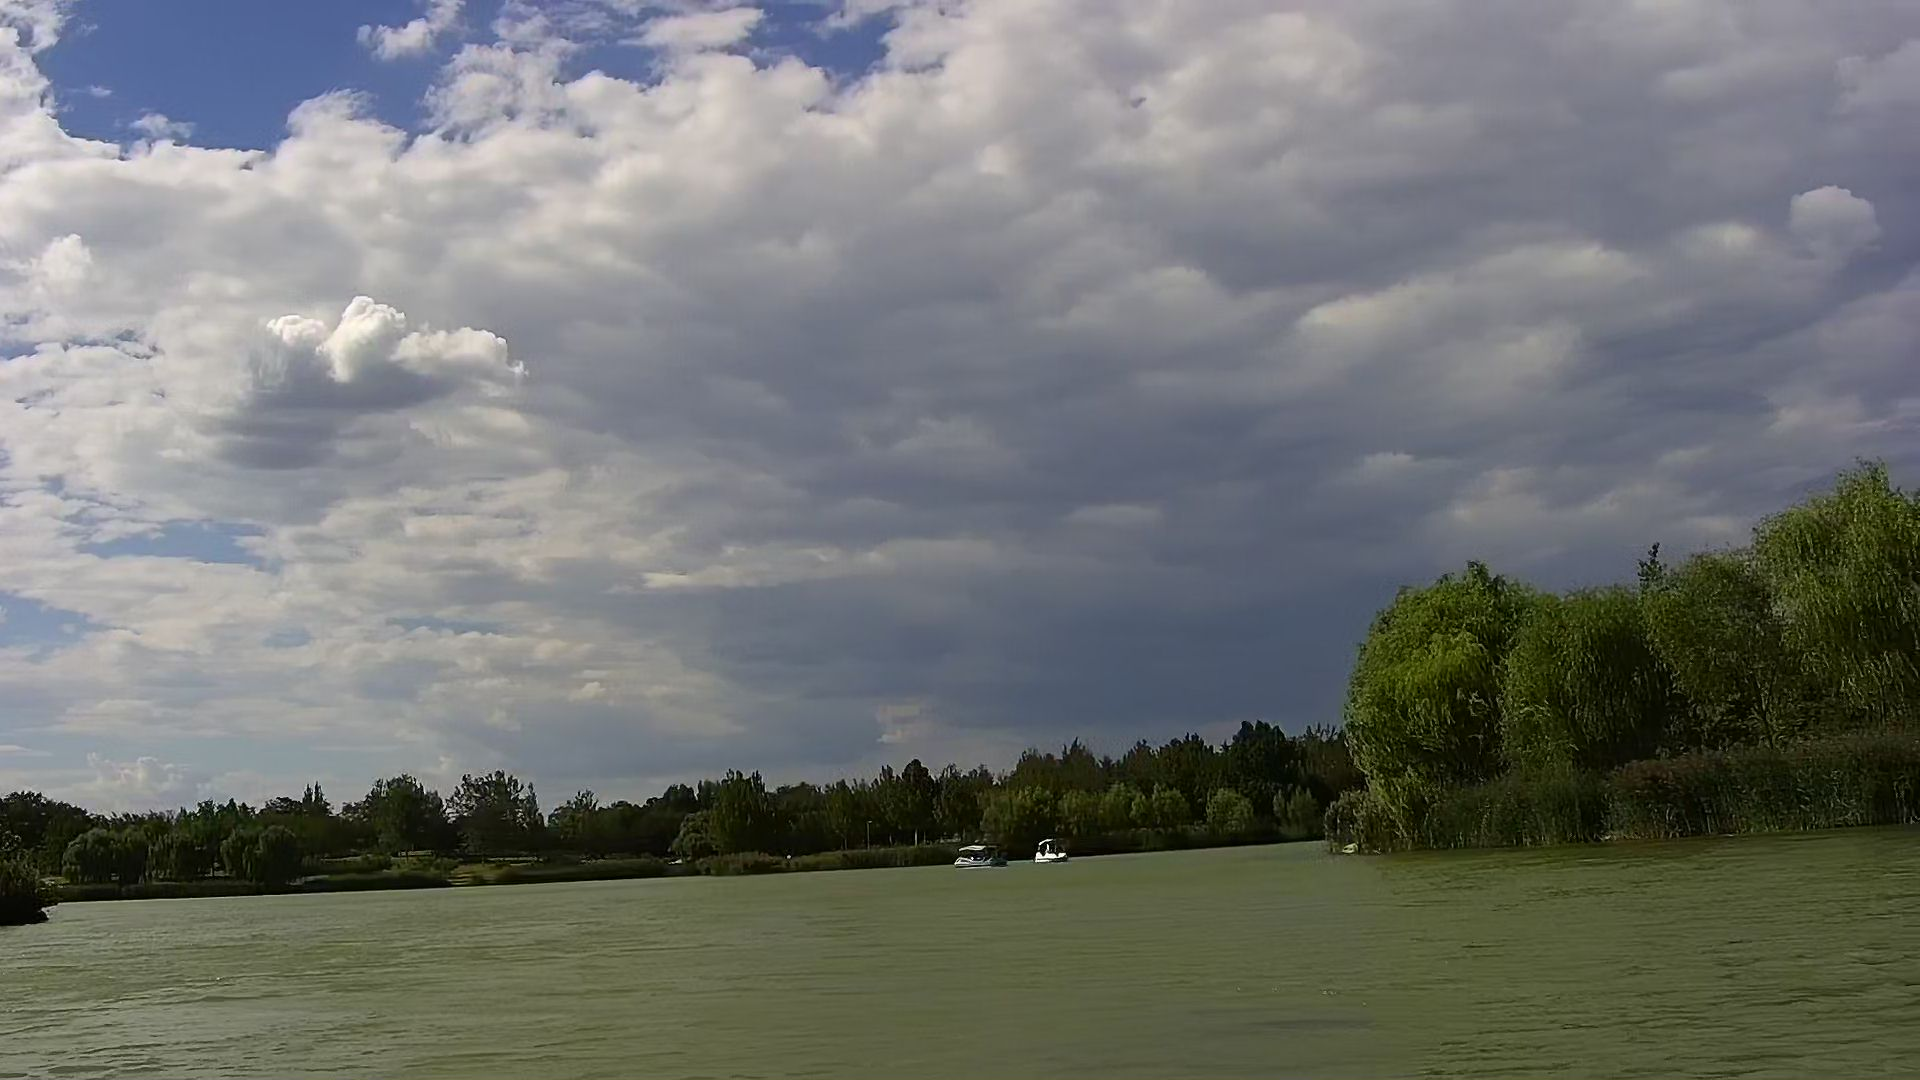boat: (952, 843, 1011, 872), (1029, 837, 1077, 866)
rock: (1338, 841, 1361, 858)
